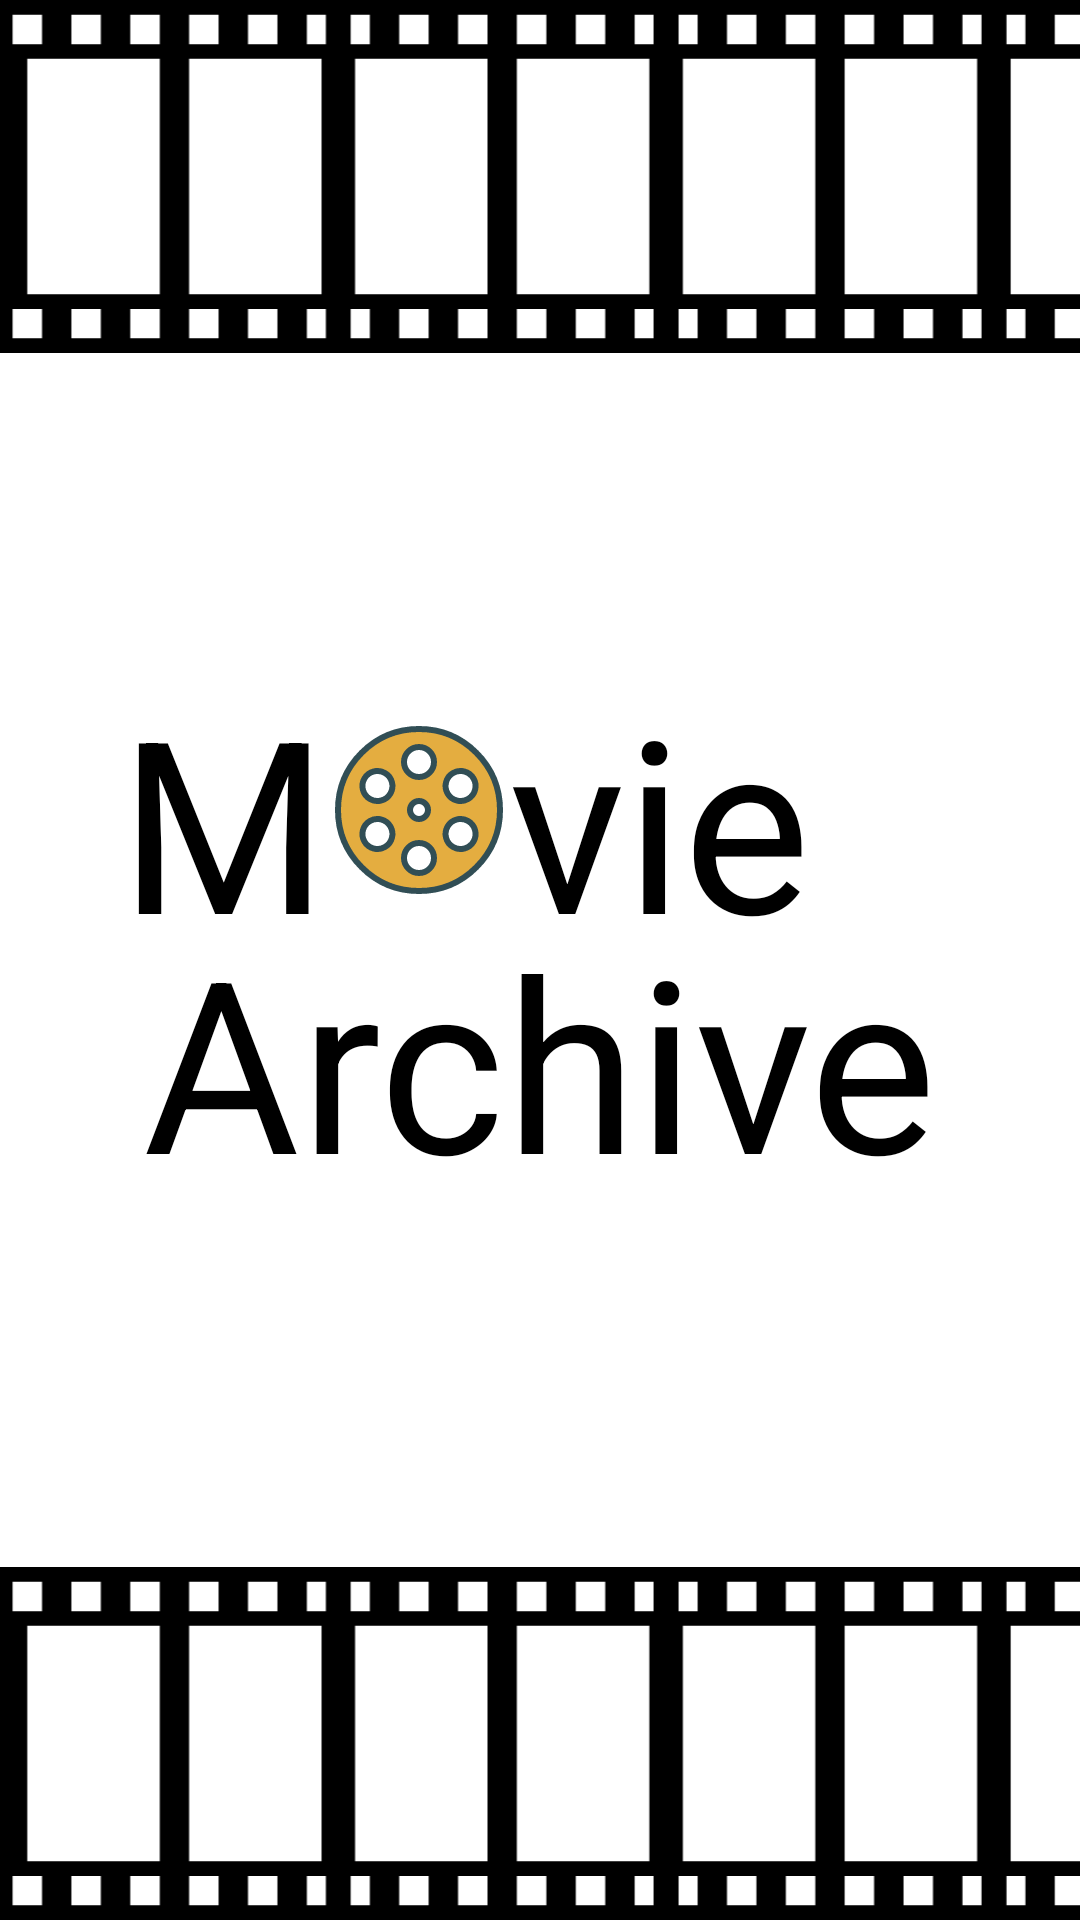

Where icons sit on this 1080x1920 app screen, as (x1, y1, x2, y2):
roll: (335, 726, 503, 894)
